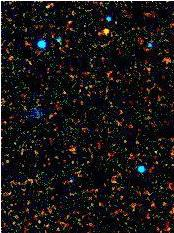star: (89, 13, 119, 43)
